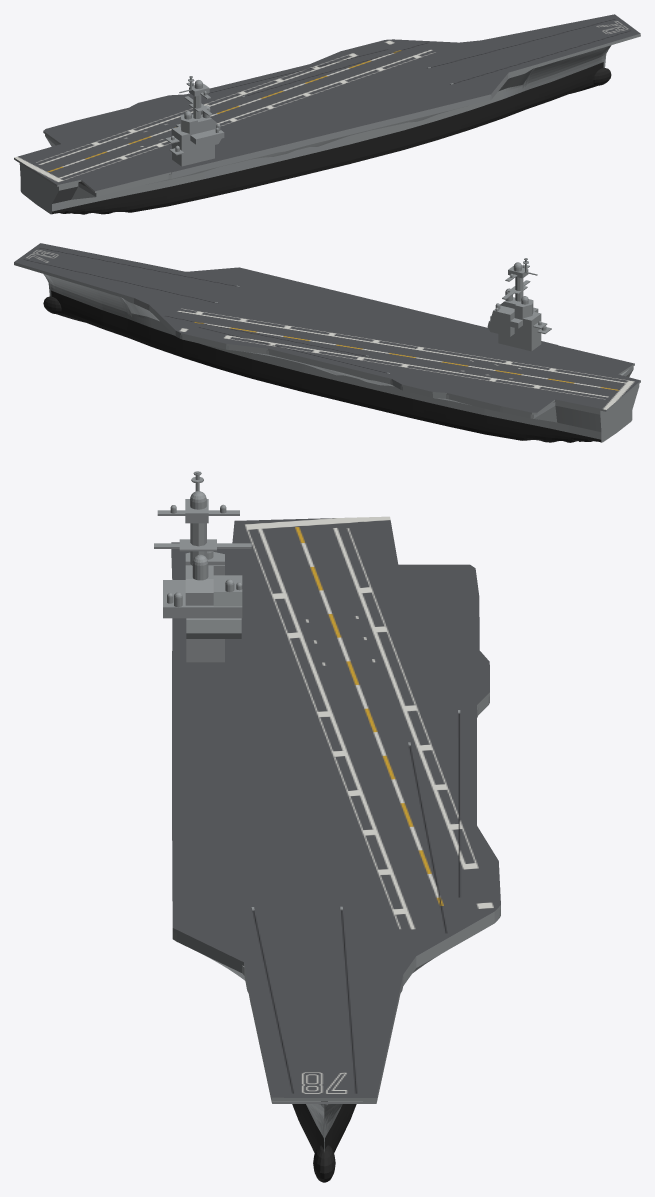
The model's file is ford-new.glb.
3 renders of one model, top to bottom at view 1: azimuth 30°, elevation 25°; view 2: azimuth 150°, elevation 25°; view 3: azimuth 270°, elevation 25°, orthographic. The views are drawn at different scales.
Parts seen in each view (by area): view 1: deck, hull, island, deck_skirt, elevator_2, elevator_1, elevator_3; view 2: deck, hull, island, deck_skirt, elevator_3, elevator_2, elevator_1; view 3: deck, island, hull, elevator_2, elevator_1, elevator_3, deck_skirt.
Boxes of the visible parts, x1,y1,x2,y2 form: deck: [14, 14, 640, 191]; hull: [19, 35, 640, 214]; island: [165, 76, 224, 166]; deck_skirt: [14, 33, 640, 192]; elevator_2: [350, 102, 411, 127]; elevator_1: [215, 136, 275, 160]; elevator_3: [75, 109, 133, 131]; deck: [14, 243, 640, 412]; hull: [14, 264, 639, 442]; island: [487, 258, 551, 351]; deck_skirt: [14, 262, 640, 414]; elevator_3: [455, 383, 513, 407]; elevator_2: [307, 286, 367, 309]; elevator_1: [442, 320, 496, 342]; deck: [171, 516, 500, 1097]; island: [154, 471, 251, 662]; hull: [171, 550, 500, 1152]; elevator_2: [172, 802, 239, 850]; elevator_1: [172, 671, 239, 717]; elevator_3: [412, 597, 479, 642]; deck_skirt: [171, 549, 500, 1101].
Bounding box in the file's own units: 333 × 75.06 × 83.89.
Materials: 4 (1 with a texture image).
